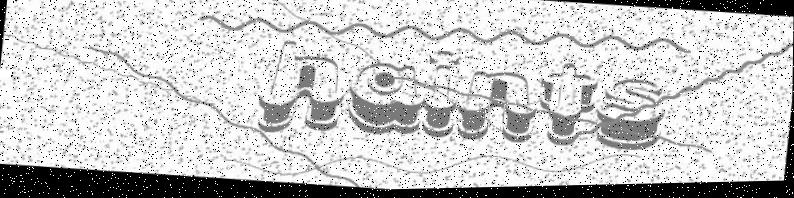a: (341, 61, 429, 141)
h: (251, 37, 353, 140)
i: (415, 42, 468, 147)
n: (454, 68, 542, 154)
s: (594, 78, 670, 155)
t: (532, 59, 601, 154)
